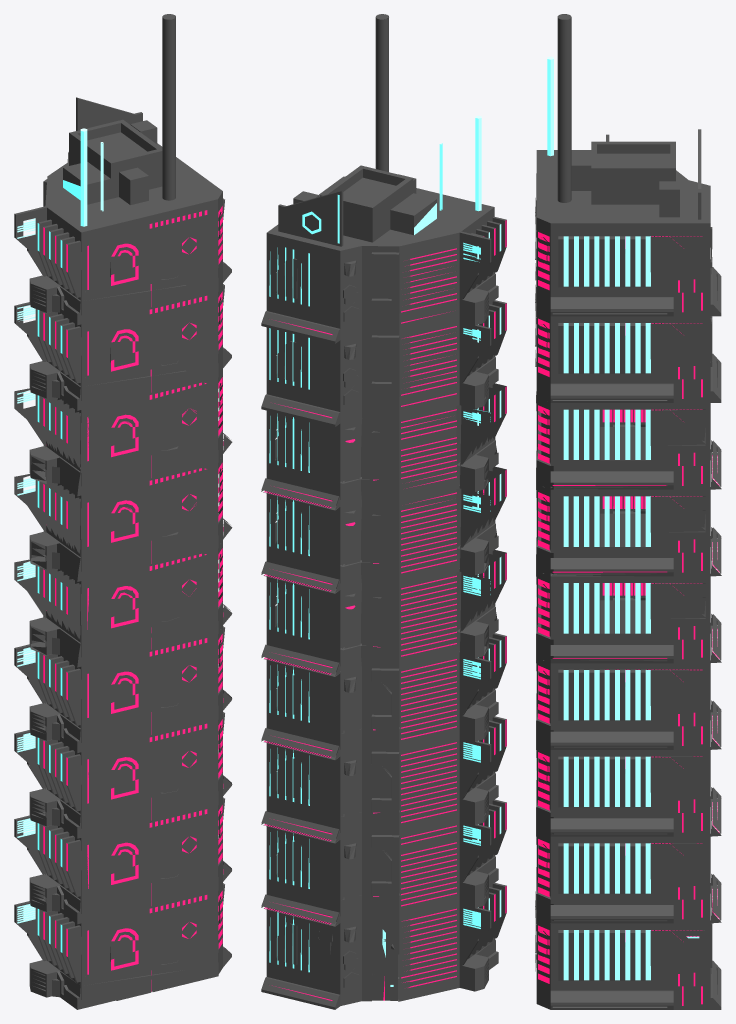
The model's file is city.glb.
3 views of the same model, side by side, from view 1: azimuth 30°, elevation 25°; view 2: azimuth 150°, elevation 25°; view 3: azimuth 270°, elevation 25° (orthographic). The views are drawn at different scales.
Visible parts, largest first — view 1: Object_16, Object_14, Object_15, Object_13, Object_12; view 2: Object_16, Object_14, Object_15, Object_13, Object_12; view 3: Object_16, Object_14, Object_15, Object_12, Object_13.
Boxes of the visible parts, left/top/right/bottom form: Object_16: left=14, top=14, right=231, bottom=1009; Object_14: left=14, top=611, right=232, bottom=924; Object_15: left=14, top=369, right=232, bottom=667; Object_13: left=43, top=206, right=223, bottom=991; Object_12: left=17, top=128, right=103, bottom=952; Object_16: left=261, top=14, right=506, bottom=1009; Object_14: left=261, top=633, right=506, bottom=926; Object_15: left=261, top=383, right=506, bottom=676; Object_13: left=264, top=220, right=506, bottom=1000; Object_12: left=269, top=115, right=501, bottom=986; Object_16: left=535, top=14, right=721, bottom=1009; Object_14: left=536, top=607, right=721, bottom=923; Object_15: left=536, top=391, right=721, bottom=663; Object_12: left=547, top=56, right=699, bottom=980; Object_13: left=538, top=232, right=719, bottom=1005.
Bounding box in the file's own units: 12.72 × 61.52 × 10.73.
